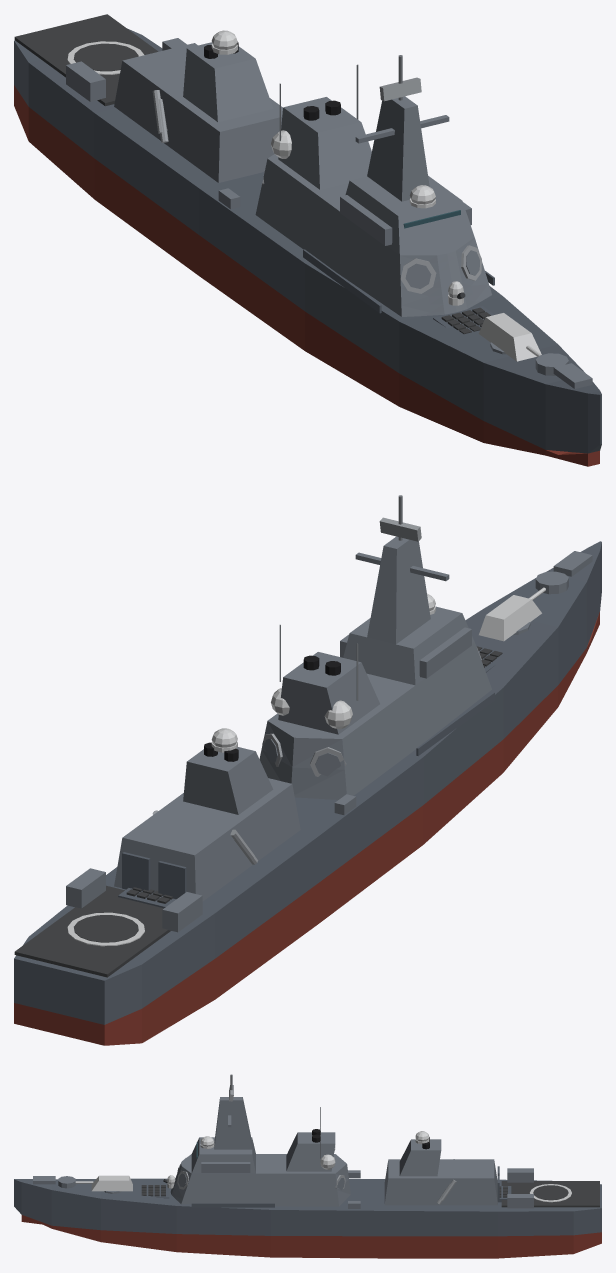
The model's file is Unit_Destroyer.obj.
The picture shows the model from 3 angles, top to bottom: view 1: azimuth 30°, elevation 25°; view 2: azimuth 150°, elevation 25°; view 3: azimuth 270°, elevation 25°; orthographic projection. The views are drawn at different scales.
Bounding box in the file's own units: 20.8 × 48.9 × 156.
